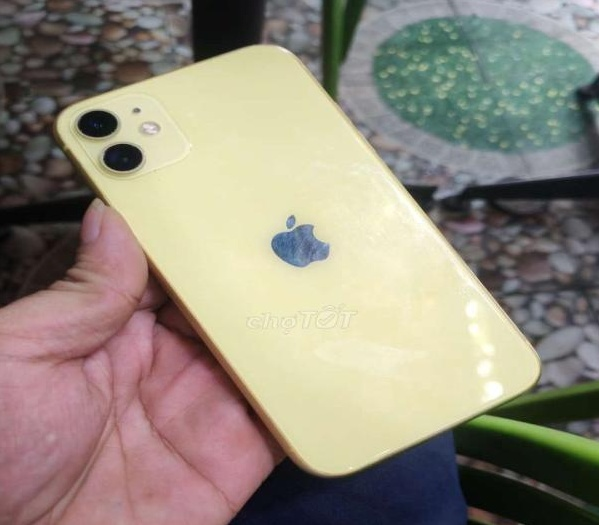scratch: (263, 214, 332, 266), (84, 139, 151, 174)
